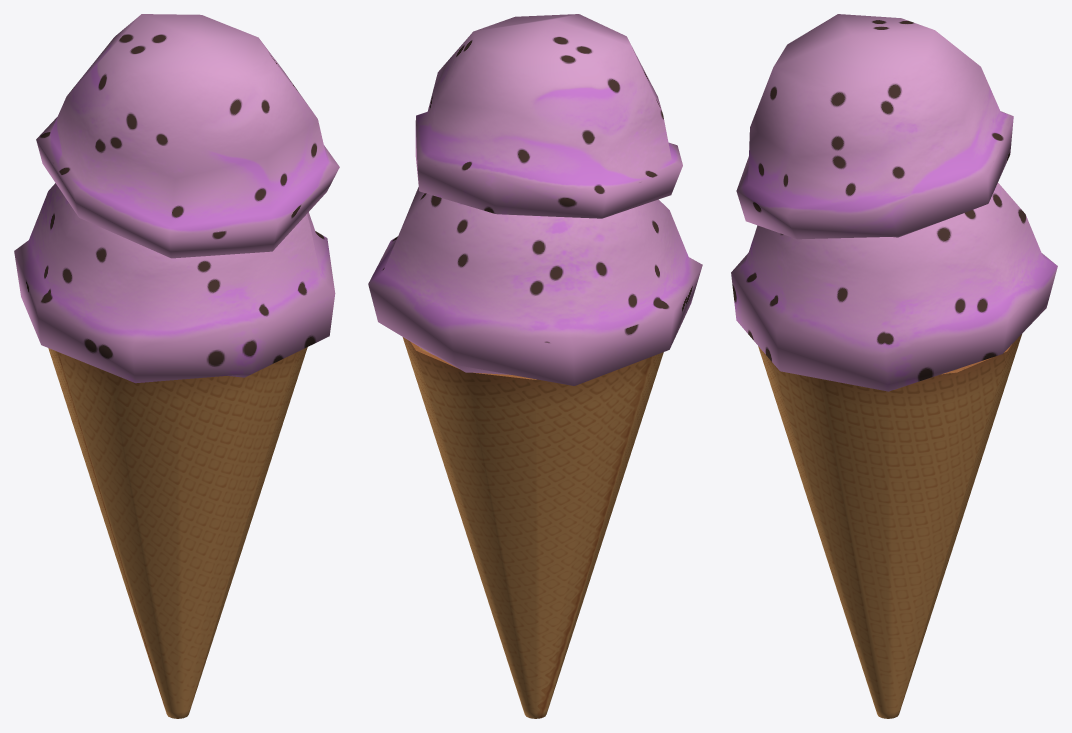
The model's file is Ice cream1.fbx.
3 views of the same model, side by side, from view 1: azimuth 30°, elevation 25°; view 2: azimuth 150°, elevation 25°; view 3: azimuth 270°, elevation 25° (orthographic).
Parts seen in each view (by area): view 1: Ice_cream2_low.001, Horn_low, Ice_cream1_low.001; view 2: Ice_cream1_low.001, Horn_low, Ice_cream2_low.001; view 3: Ice_cream2_low.001, Horn_low, Ice_cream1_low.001.
Boxes of the visible parts, bbox=[...] form: Ice_cream2_low.001: bbox=[36, 14, 339, 258]; Horn_low: bbox=[48, 347, 307, 718]; Ice_cream1_low.001: bbox=[14, 183, 335, 383]; Ice_cream1_low.001: bbox=[368, 187, 702, 385]; Horn_low: bbox=[402, 337, 663, 718]; Ice_cream2_low.001: bbox=[415, 14, 682, 218]; Ice_cream2_low.001: bbox=[736, 14, 1013, 239]; Horn_low: bbox=[758, 334, 1021, 718]; Ice_cream1_low.001: bbox=[731, 183, 1057, 391].
Bounding box in the file's own units: 28.62 × 65.74 × 28.44.
